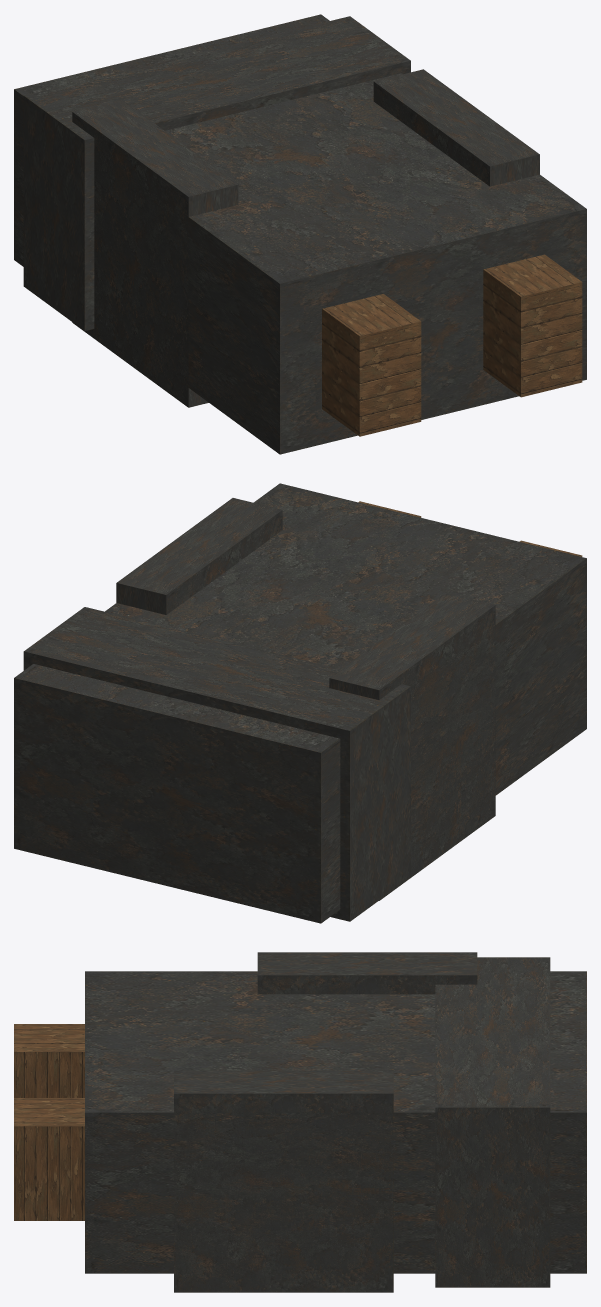
Rendered from ITM_RADIO_BATTERY_001.obj.
The picture shows the model from 3 angles, top to bottom: view 1: azimuth 30°, elevation 25°; view 2: azimuth 150°, elevation 25°; view 3: azimuth 270°, elevation 25°; orthographic projection. The views are drawn at different scales.
Visible parts, largest first — view 1: BatteryBody, PrimaryGripBand, KeyedSocketRailLeft, TerminalPositive, TerminalNegative, KeyedSocketRailRight; view 2: BatteryBody, PrimaryGripBand, KeyedSocketRailLeft, KeyedSocketRailRight; view 3: BatteryBody, KeyedSocketRailRight, PrimaryGripBand, KeyedSocketRailLeft, TerminalNegative, TerminalPositive.
Part boxes in pixels (left/top/right/bottom): BatteryBody: left=14, top=14, right=586, bottom=454; PrimaryGripBand: left=23, top=16, right=410, bottom=330; KeyedSocketRailLeft: left=72, top=99, right=238, bottom=407; TerminalPositive: left=322, top=294, right=421, bottom=436; TerminalNegative: left=483, top=254, right=582, bottom=397; KeyedSocketRailRight: left=373, top=69, right=539, bottom=186; BatteryBody: left=14, top=483, right=586, bottom=923; PrimaryGripBand: left=23, top=607, right=410, bottom=921; KeyedSocketRailLeft: left=329, top=593, right=495, bottom=900; KeyedSocketRailRight: left=116, top=498, right=282, bottom=614; BatteryBody: left=85, top=971, right=586, bottom=1273; KeyedSocketRailRight: left=174, top=1070, right=393, bottom=1292; PrimaryGripBand: left=435, top=957, right=550, bottom=1287; KeyedSocketRailLeft: left=257, top=952, right=477, bottom=994; TerminalNegative: left=14, top=1098, right=84, bottom=1220; TerminalPositive: left=14, top=1024, right=84, bottom=1097.
Size of the model in its own units: 0.17 by 0.1055 by 0.274.
4 materials, 4 textured.
